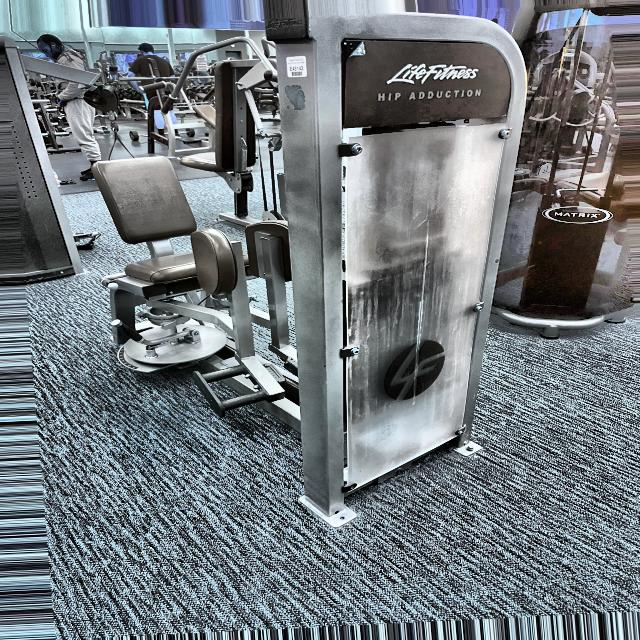hip_adduction_machine: (88, 108, 264, 442), (370, 78, 492, 126)
